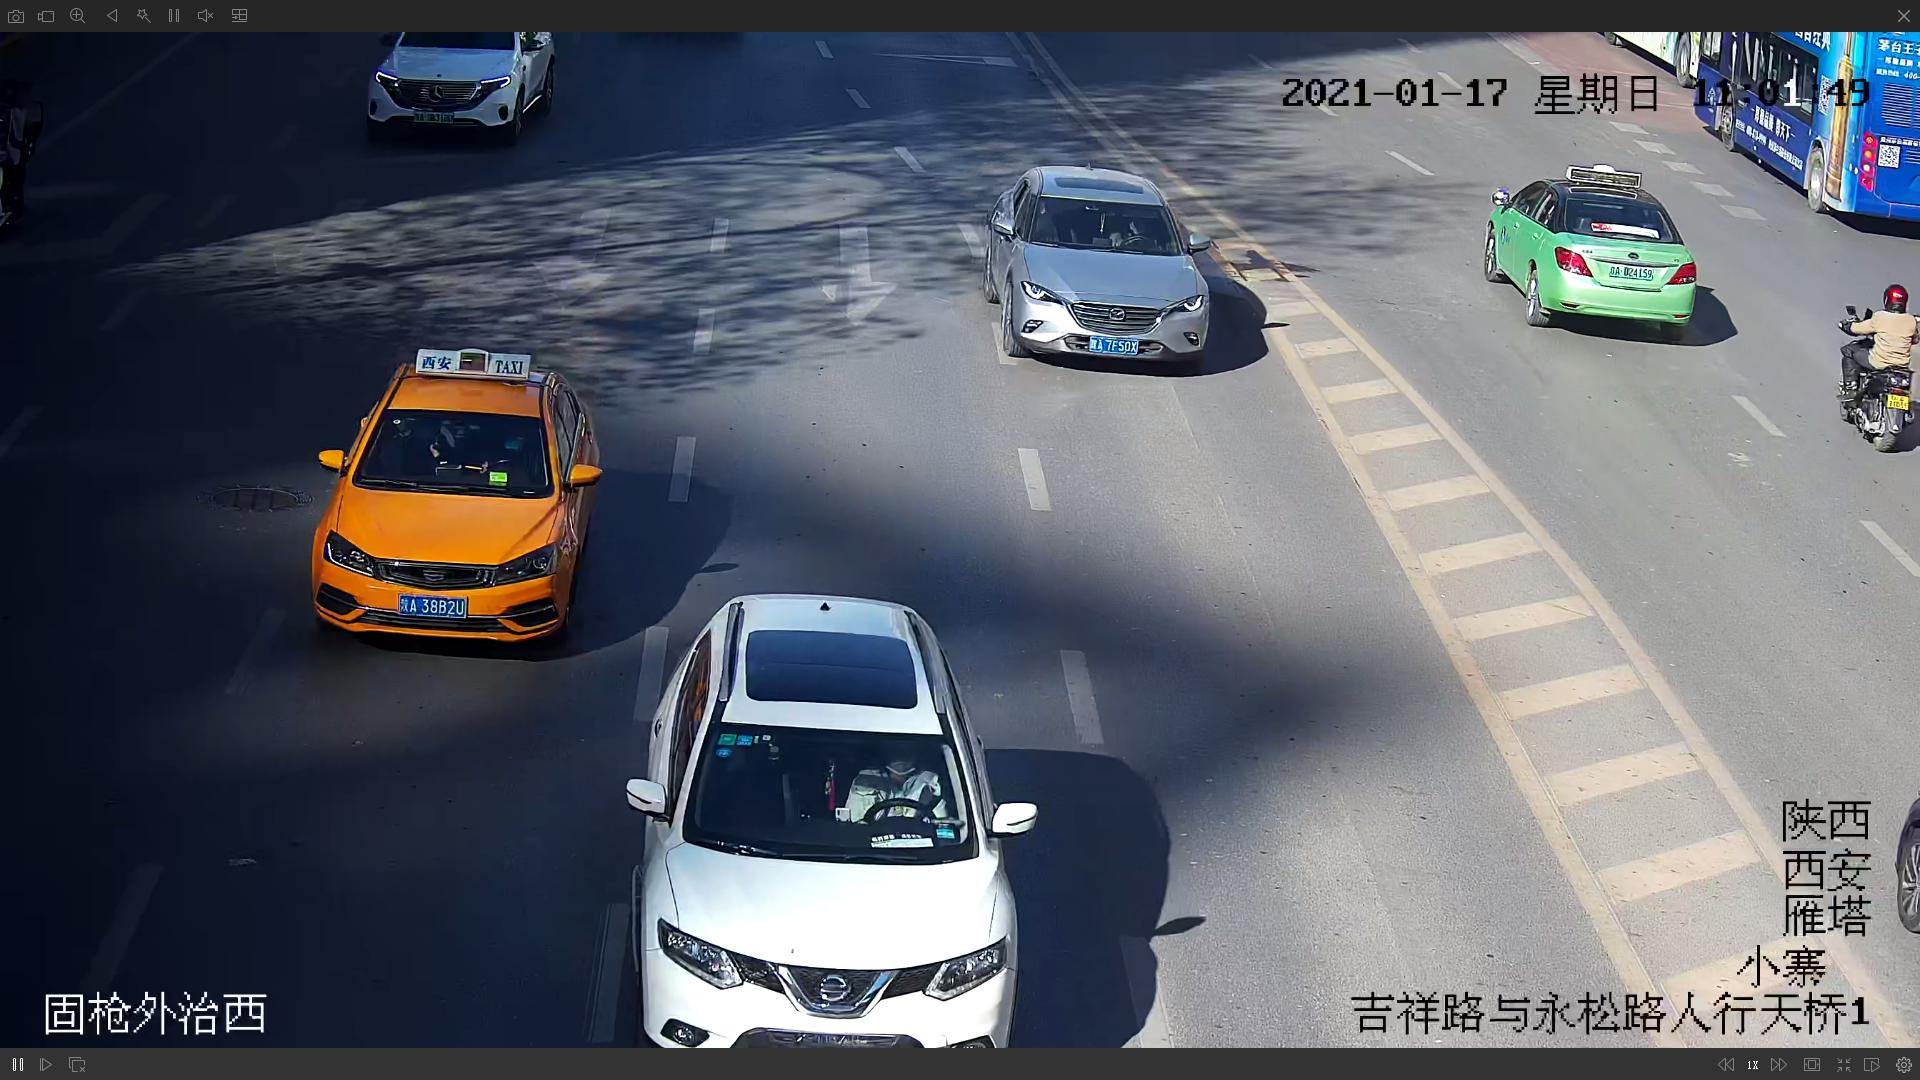orange: (306, 343, 603, 650)
silver-gray: (984, 164, 1213, 369)
white: (628, 588, 1040, 1048)
